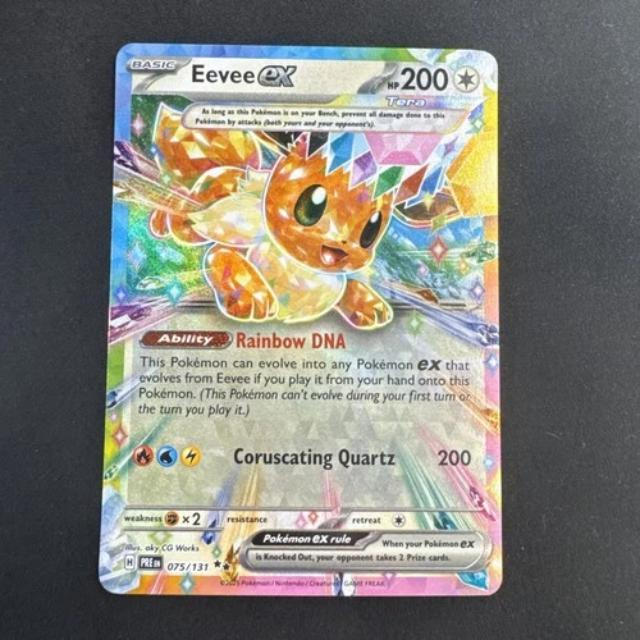Card: (87, 41, 506, 604)
Name: (183, 59, 300, 90)
